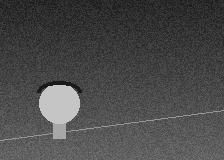no_helmet: (39, 81, 79, 128)
